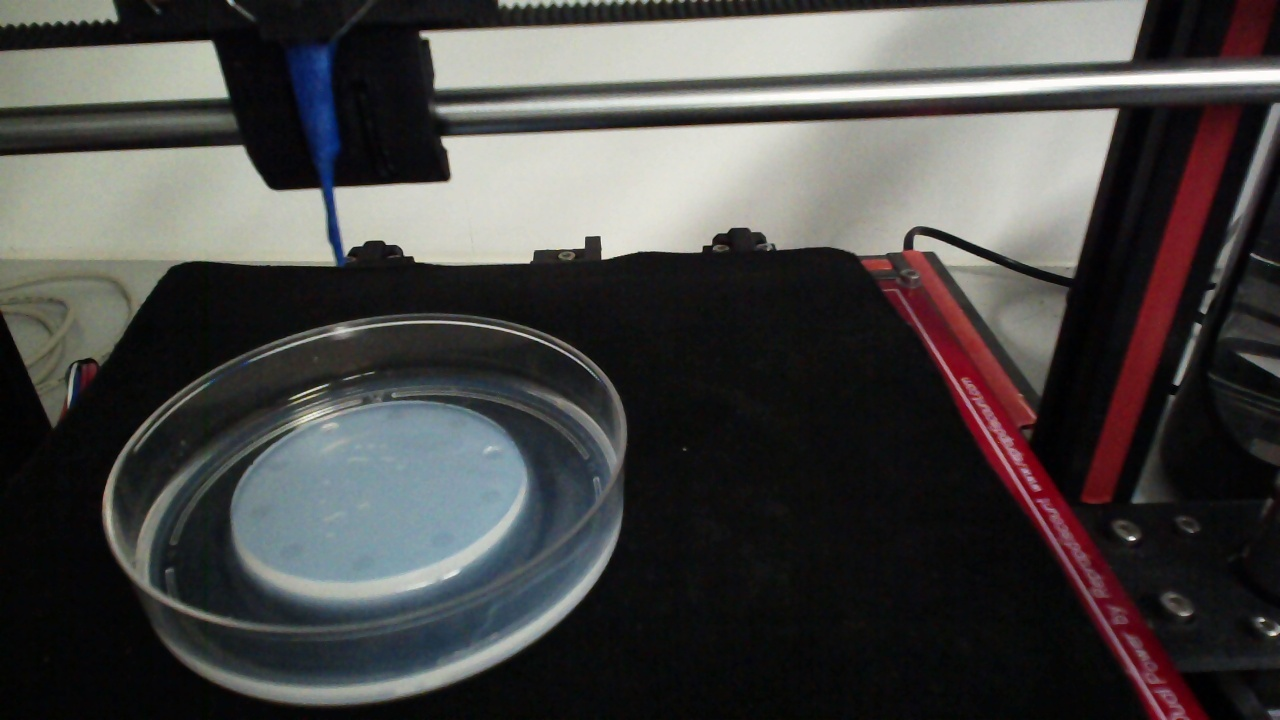groove: (429, 526, 455, 551), (351, 551, 377, 575), (279, 541, 305, 562), (384, 406, 411, 425), (445, 413, 472, 431), (248, 503, 270, 524), (267, 456, 291, 475), (481, 444, 504, 463), (481, 487, 504, 506), (320, 422, 341, 438)
needle: (295, 50, 341, 268)
